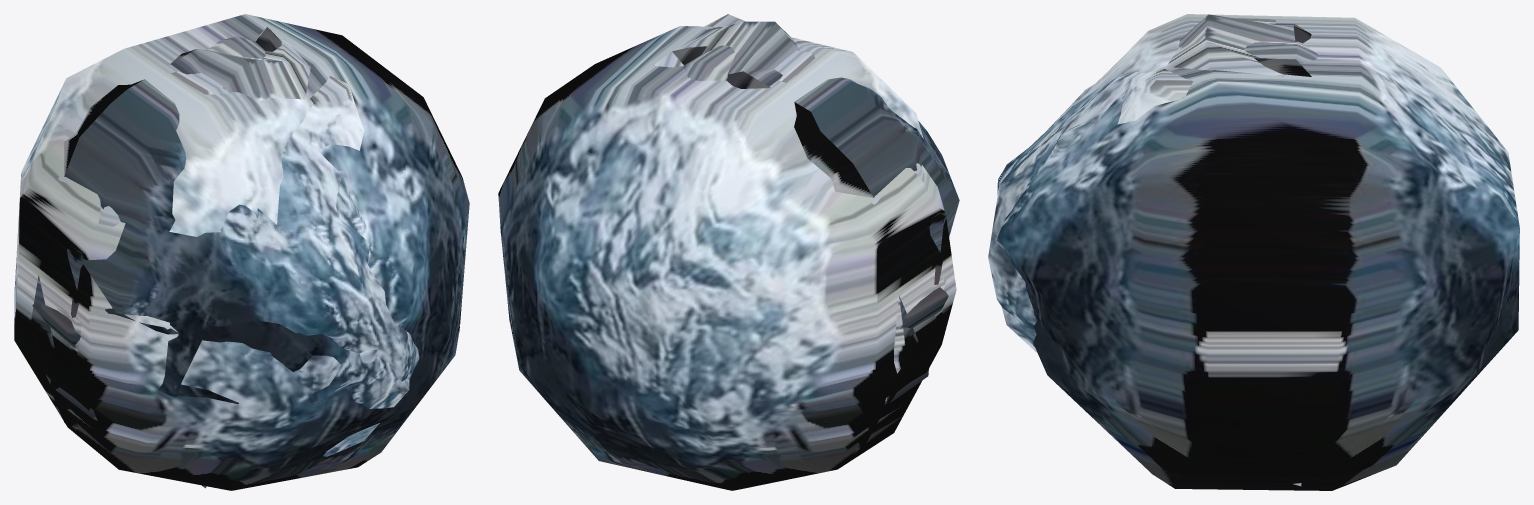
File: ast_buz.glb
3 views of the same model, side by side, from view 1: azimuth 30°, elevation 25°; view 2: azimuth 150°, elevation 25°; view 3: azimuth 270°, elevation 25° (orthographic). The views are drawn at different scales.
Visible parts, largest first — view 1: PICK_buz, AST_buz_2, AST_buz_3, AST_buz_1; view 2: PICK_buz, AST_buz_2, AST_buz_1, AST_buz_3; view 3: PICK_buz, AST_buz_2, AST_buz_1, AST_buz_3.
Part boxes in pixels (x1=…): PICK_buz: x1=14, y1=14, x2=469, y2=490; AST_buz_2: x1=28, y1=39, x2=419, y2=488; AST_buz_3: x1=32, y1=27, x2=410, y2=456; AST_buz_1: x1=49, y1=36, x2=425, y2=431; PICK_buz: x1=498, y1=26, x2=956, y2=490; AST_buz_2: x1=675, y1=14, x2=959, y2=404; AST_buz_1: x1=683, y1=45, x2=945, y2=457; AST_buz_3: x1=653, y1=46, x2=948, y2=328; PICK_buz: x1=997, y1=14, x2=1519, y2=490; AST_buz_2: x1=988, y1=14, x2=1311, y2=346; AST_buz_1: x1=1010, y1=18, x2=1317, y2=331; AST_buz_3: x1=1002, y1=58, x2=1311, y2=486.
Size of the model in its own units: 1.02 by 1.05 by 1.17.
1 material, 1 textured.
